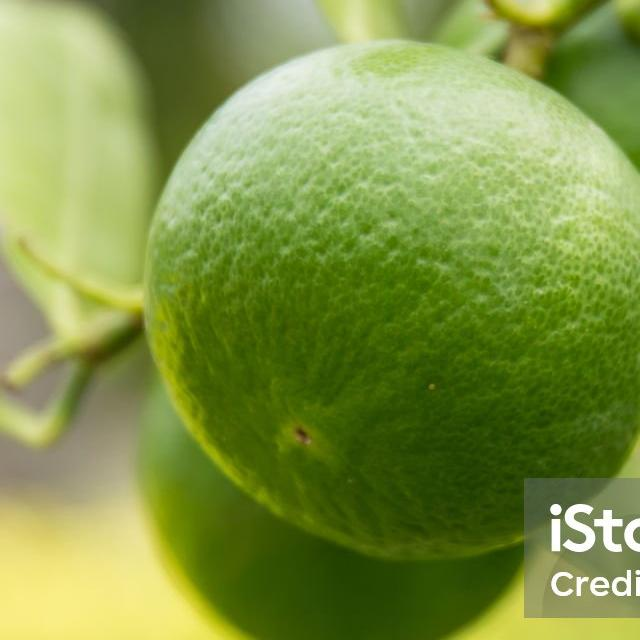lime: (138, 40, 640, 640)
